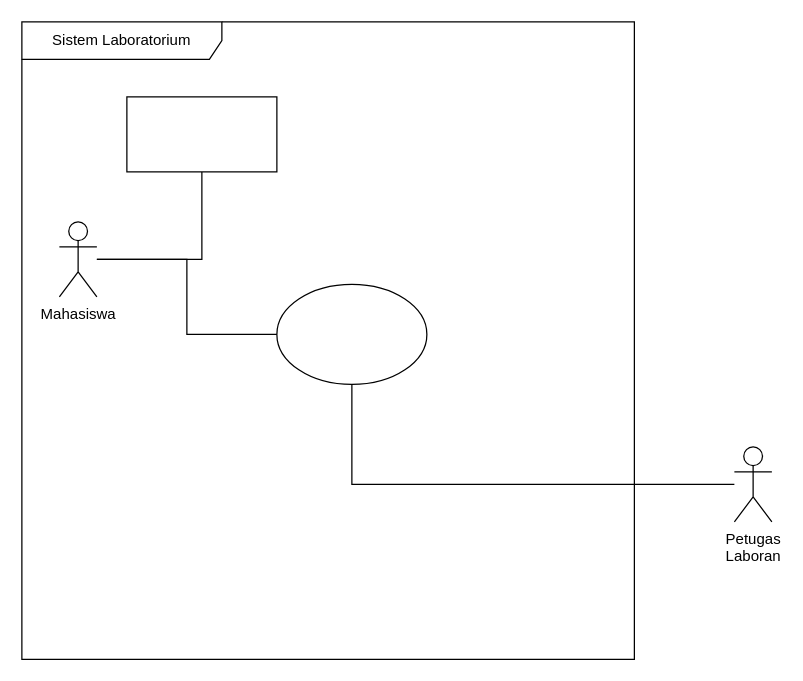
This 803x681 diagram has some shape labels left out. The centre of each missing label's shape, as x and y in pixels:
Kelola jadwal kuliah: [351,333]
Lihat Jadwal Kuliah: [201,134]
